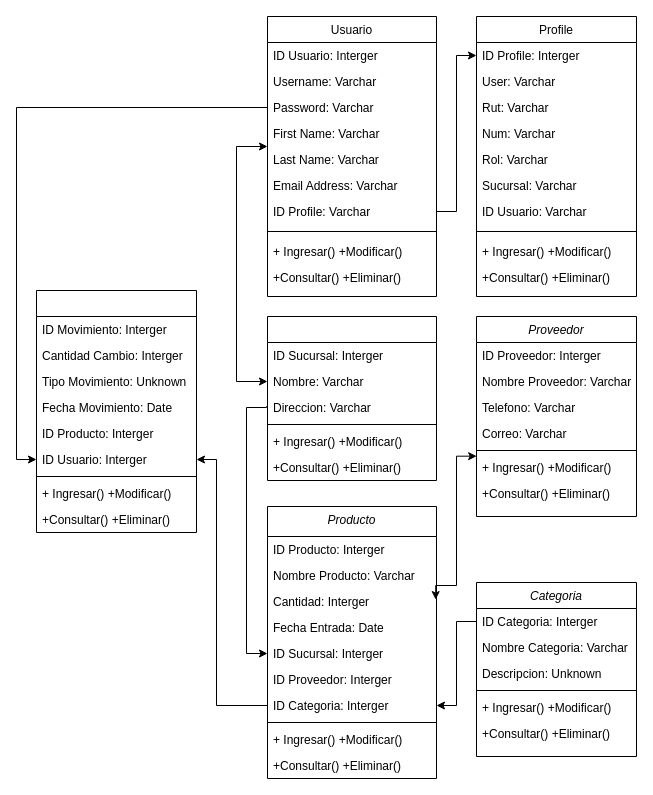
This 653x795 diagram has some shape labels left out. Here are the shapes that lost their labels. From the top down, the box of each, then its label:
(36, 290, 196, 532): Movimiento Empleado
(266, 316, 436, 480): Sucursales
